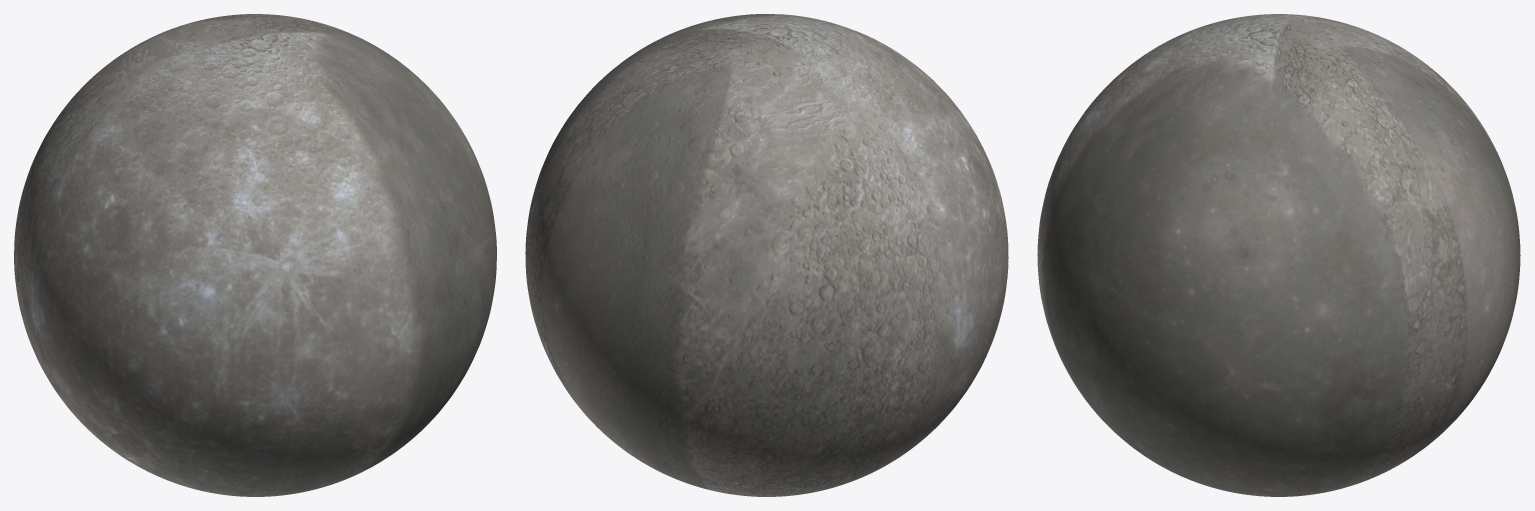
The model's file is mercury.glb.
The picture shows the model from 3 angles, left to right: view 1: azimuth 30°, elevation 25°; view 2: azimuth 150°, elevation 25°; view 3: azimuth 270°, elevation 25°; orthographic projection.
Parts seen in each view (by area): view 1: pSphere1.1; view 2: pSphere1.1; view 3: pSphere1.1.
Part boxes in pixels (x1,y1,x2,y2): pSphere1.1: (14,14,496,496); pSphere1.1: (525,14,1008,496); pSphere1.1: (1037,14,1520,496).
Size of the model in its own units: 0.2 by 0.2 by 0.2.
Materials: 1 (1 with a texture image).
